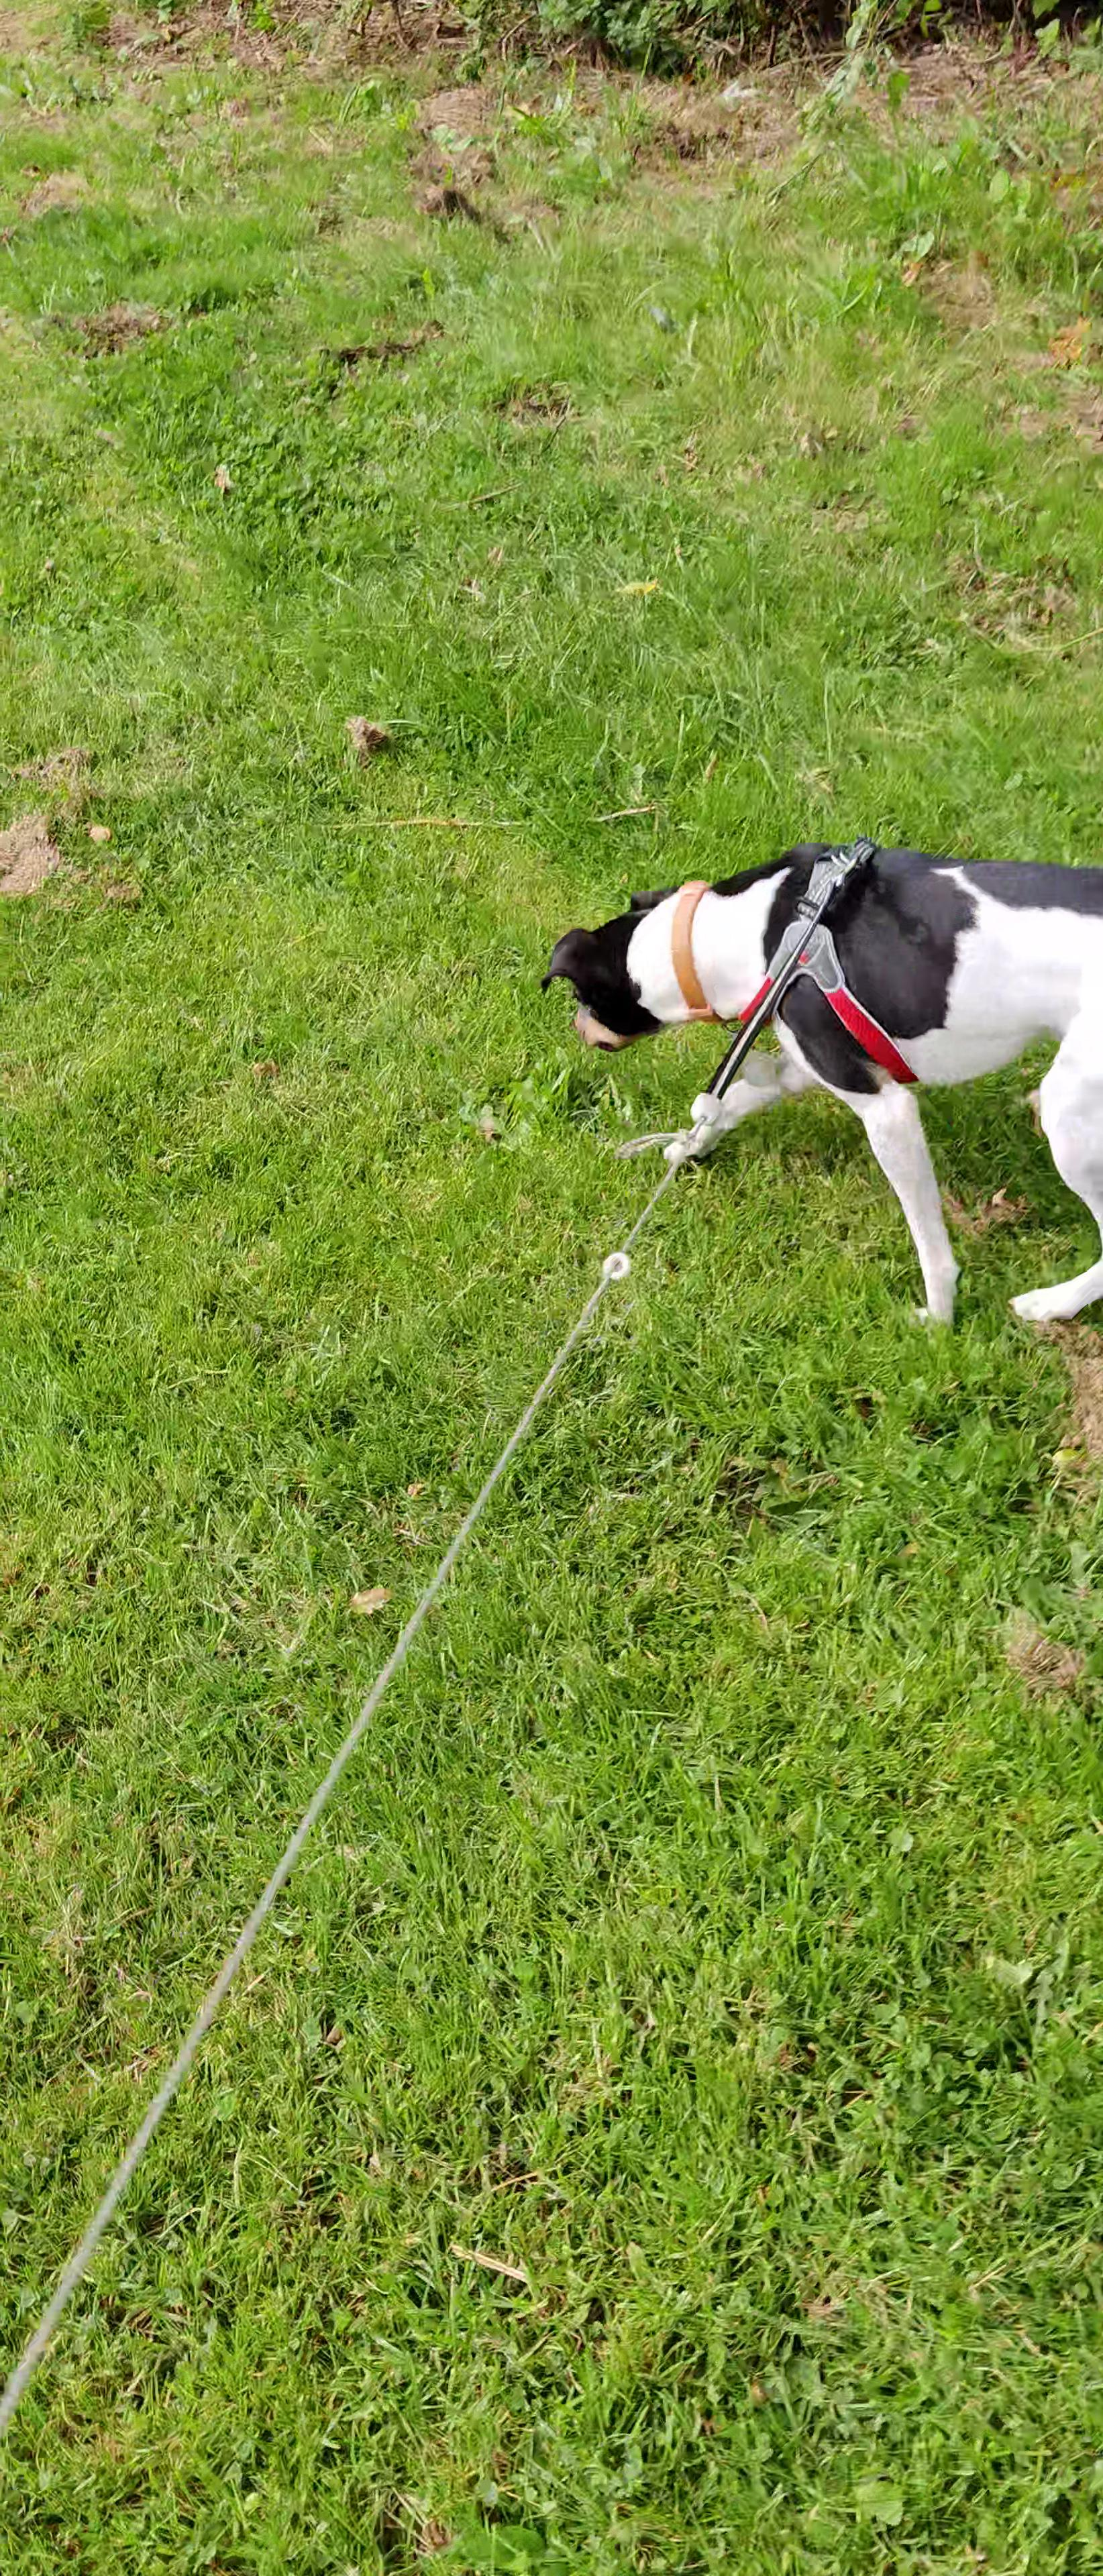Dog: (529, 813, 1103, 1342)
